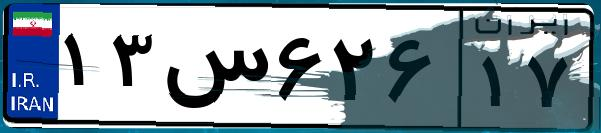1: (57, 26, 110, 100), (475, 38, 525, 113)
2: (330, 28, 385, 110)
3: (110, 28, 158, 98)
6: (270, 28, 330, 110), (385, 28, 445, 110)
7: (525, 38, 570, 115)
س: (158, 20, 270, 120)
